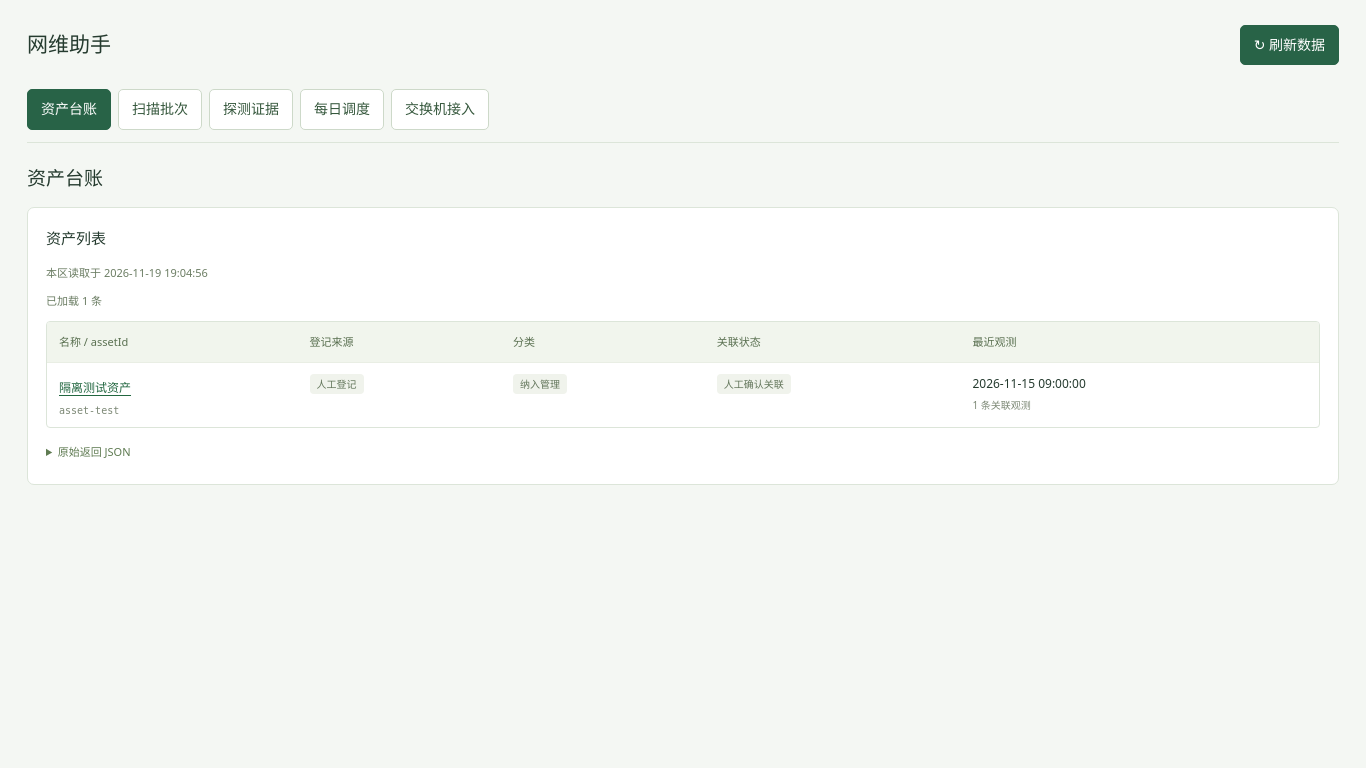
Test: 最小工作台真实读取语义（隔离响应） › 打开资产页只查资产，切到扫描页才读取批次目录
Expected: the button with aria-label "查看 隔离测试资产" is shown, [59, 374, 131, 401]
Click the button "扫描批次": coordinates (160, 110) [118, 89, 202, 130]
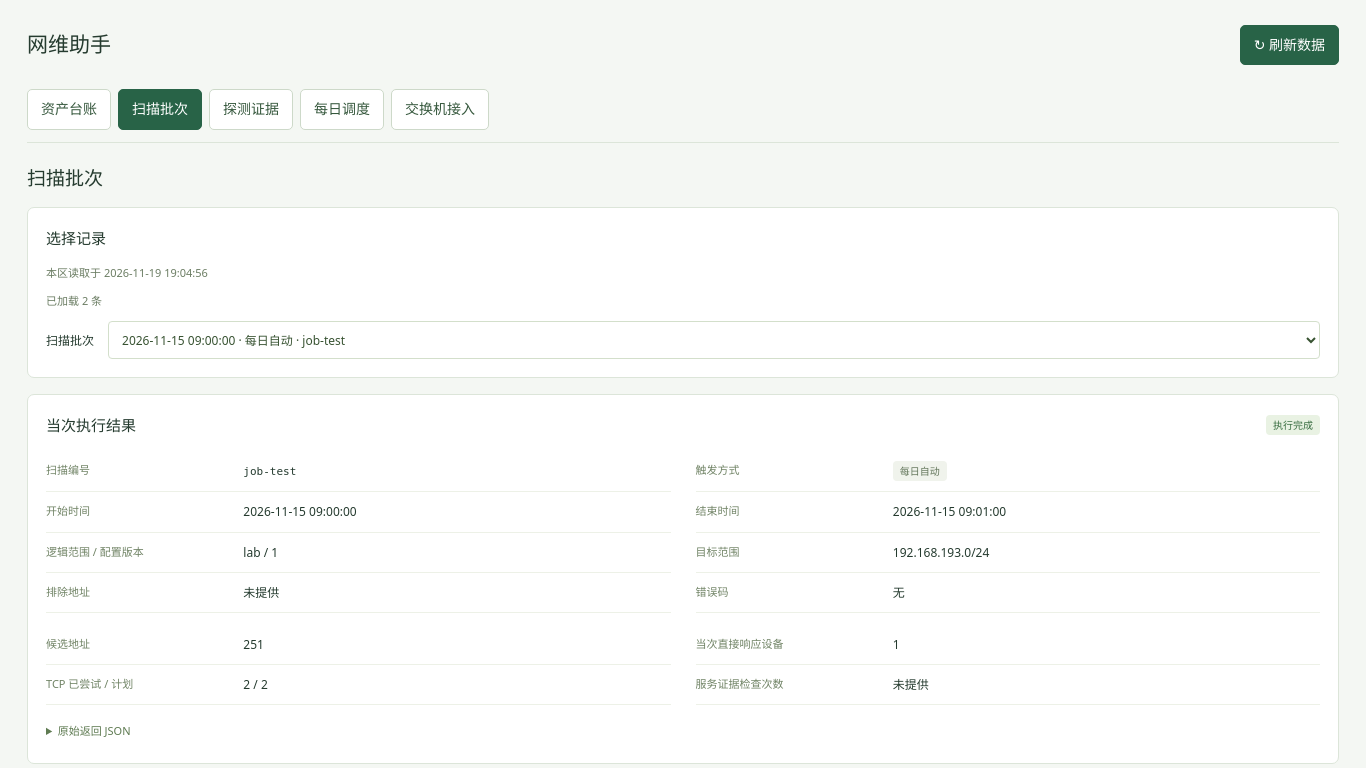
Expected: the heading "当次执行结果" is shown, [46, 413, 136, 437]
Click the button "资产台账": coordinates (69, 110) [27, 89, 111, 130]
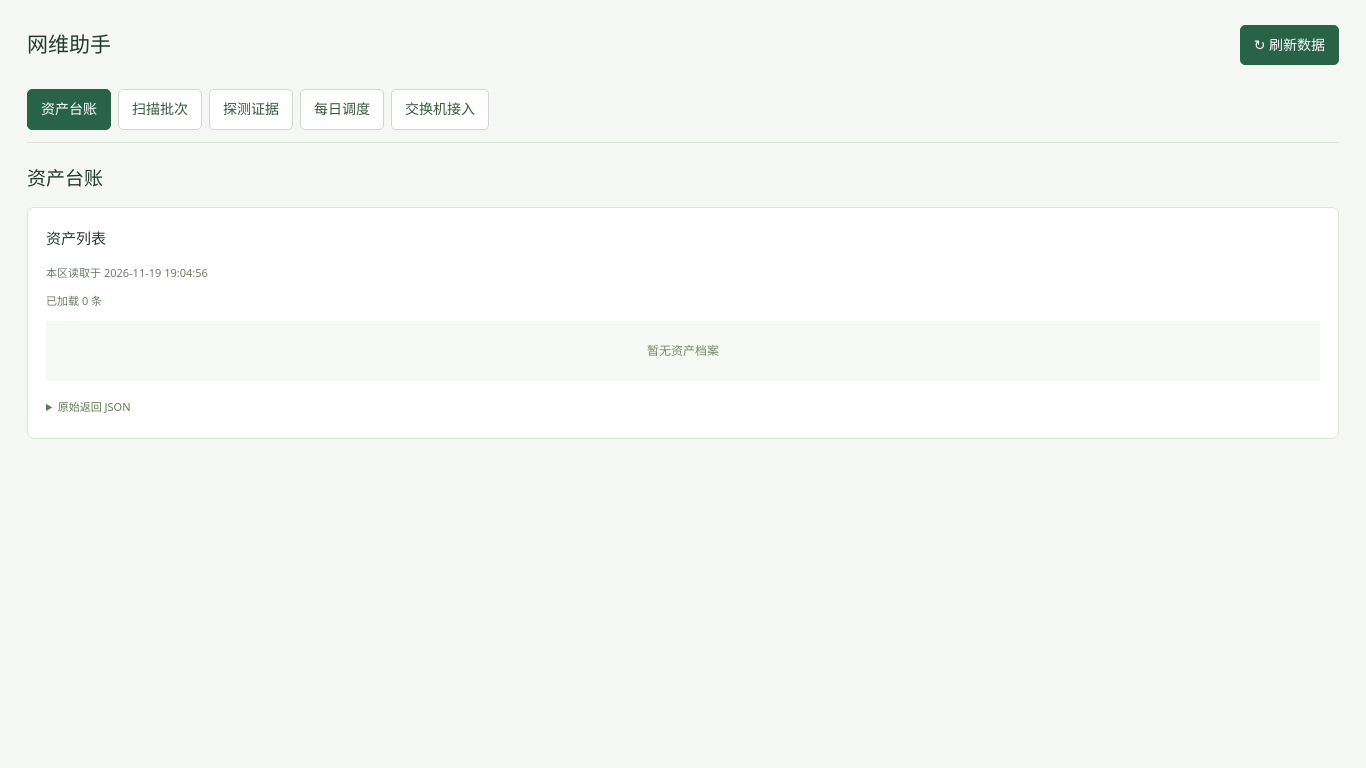
Expected: the text "暂无资产档案" is shown, [46, 321, 1320, 381]
